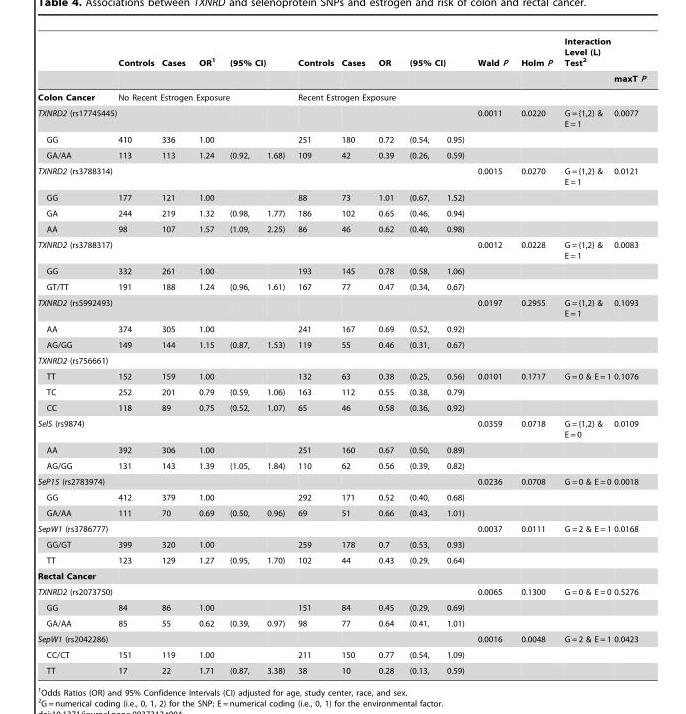table: (37, 36, 646, 674)
table column: (37, 36, 106, 674), (558, 36, 611, 674), (106, 36, 157, 674), (290, 36, 337, 674), (470, 36, 514, 674), (514, 36, 558, 674), (221, 36, 257, 674), (401, 36, 437, 674), (611, 36, 646, 674), (157, 36, 191, 674), (337, 36, 371, 674), (257, 36, 290, 674), (437, 36, 470, 674), (191, 36, 221, 674), (371, 36, 401, 674)
table column header: (37, 36, 646, 87)
table projected row header: (37, 352, 646, 368), (37, 568, 646, 583)
table row: (37, 36, 646, 70), (37, 236, 646, 263), (37, 294, 646, 321), (37, 415, 646, 442), (37, 105, 646, 131), (37, 163, 646, 189), (37, 87, 646, 105), (37, 70, 646, 87), (37, 131, 646, 147), (37, 147, 646, 163), (37, 189, 646, 205), (37, 205, 646, 221), (37, 278, 646, 294), (37, 336, 646, 352), (37, 352, 646, 368), (37, 368, 646, 384), (37, 399, 646, 415), (37, 457, 646, 473), (37, 473, 646, 489), (37, 489, 646, 505), (37, 520, 646, 536), (37, 536, 646, 552), (37, 552, 646, 568), (37, 583, 646, 599), (37, 599, 646, 615), (37, 615, 646, 631), (37, 646, 646, 662), (37, 221, 646, 236), (37, 263, 646, 278), (37, 321, 646, 336), (37, 384, 646, 399), (37, 442, 646, 457), (37, 505, 646, 520), (37, 568, 646, 583), (37, 631, 646, 646), (37, 662, 646, 674)
table spanning cell: (106, 87, 290, 105), (290, 87, 470, 105), (37, 236, 157, 263), (37, 294, 157, 321), (37, 105, 157, 131), (37, 163, 157, 189), (558, 36, 611, 87), (106, 36, 157, 87), (37, 473, 191, 489), (290, 36, 337, 87), (221, 36, 290, 70), (401, 36, 470, 70), (470, 36, 514, 87), (514, 36, 558, 87), (37, 520, 157, 536), (37, 583, 157, 599), (37, 631, 157, 646), (611, 36, 646, 87), (157, 36, 191, 87), (337, 36, 371, 87), (191, 36, 221, 87), (371, 36, 401, 87)
